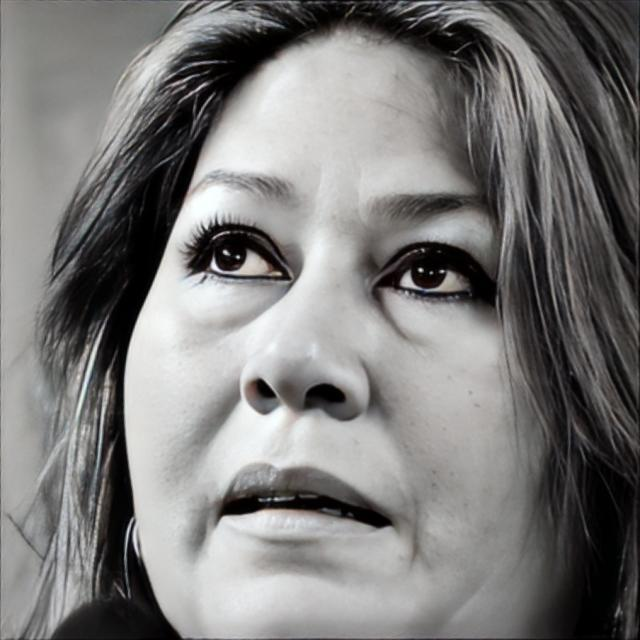sad: (117, 31, 536, 632)
